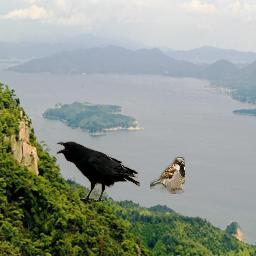Crow: (56, 142, 140, 203)
Sparrow: (151, 158, 186, 195)
